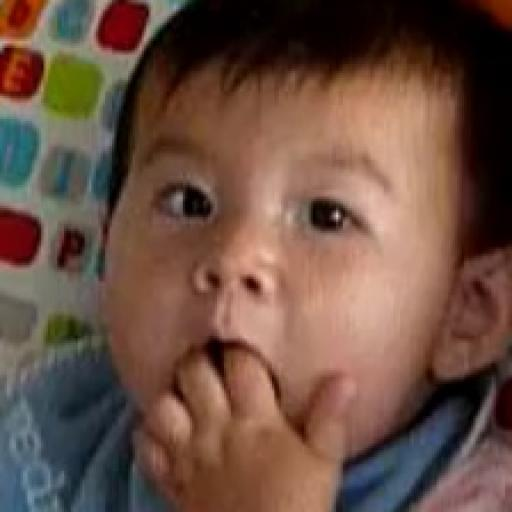Autism: (49, 16, 492, 428)
